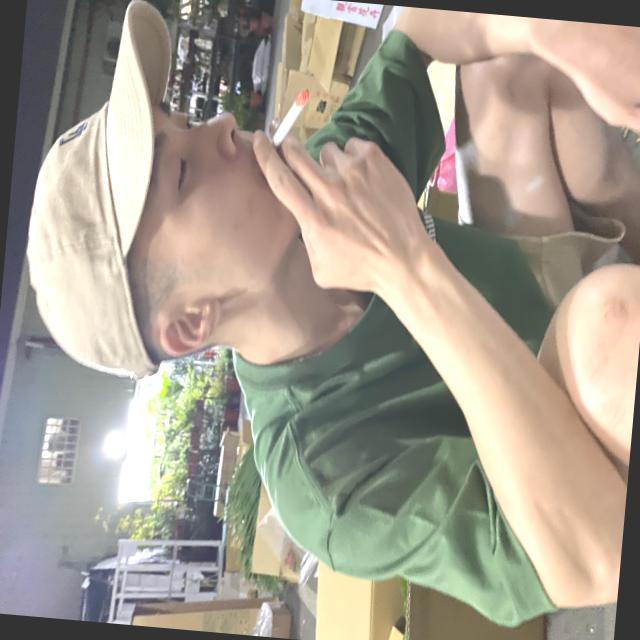smoke: (252, 86, 322, 172)
